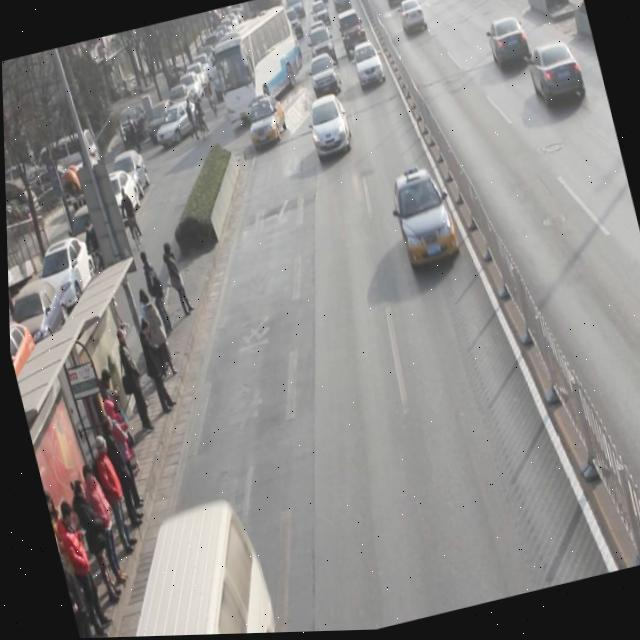car: (387, 166, 461, 275), (524, 38, 587, 113), (303, 92, 354, 163), (241, 91, 291, 151), (484, 15, 533, 74), (349, 39, 388, 93), (304, 51, 343, 101), (335, 7, 369, 56), (305, 21, 338, 71), (395, 0, 429, 40)
van: (204, 7, 310, 123)
